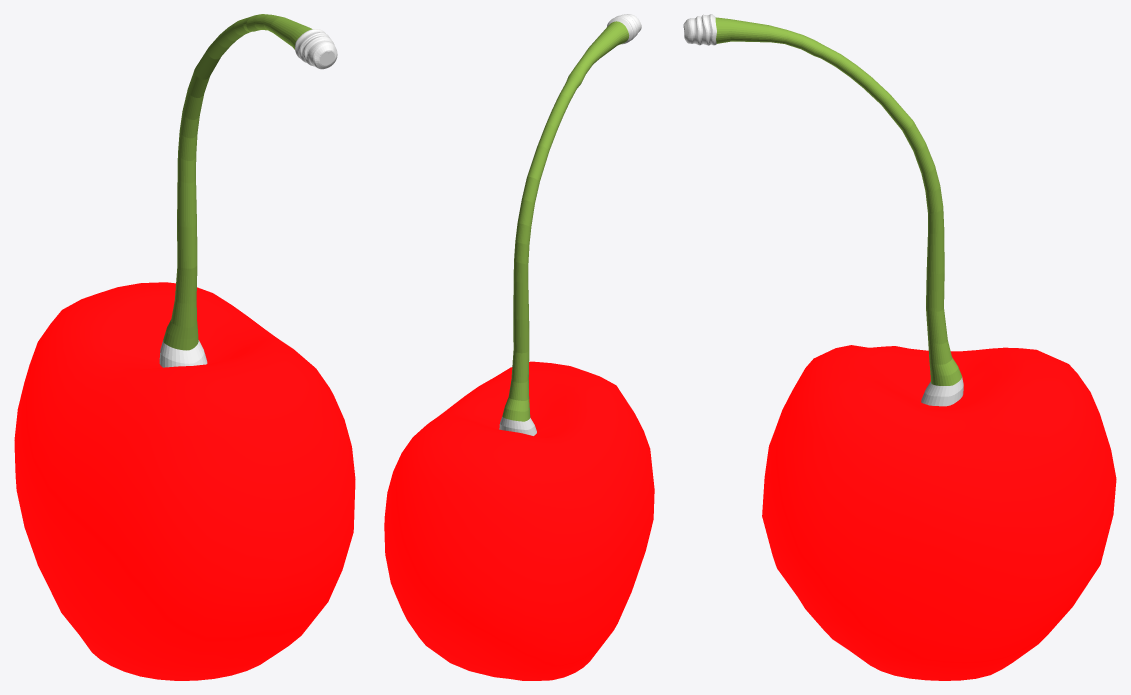
The model's file is cherry.glb.
3 renders of one model, left to right at view 1: azimuth 30°, elevation 25°; view 2: azimuth 150°, elevation 25°; view 3: azimuth 270°, elevation 25°, orthographic. The views are drawn at different scales.
Parts seen in each view (by area): view 1: Circle007_3, Circle007, Circle007_2, Circle007_1; view 2: Circle007_3, Circle007, Circle007_1, Circle007_2; view 3: Circle007_3, Circle007, Circle007_2, Circle007_1.
Part boxes in pixels (left/top/right/bottom): Circle007_3: left=14, top=282, right=355, bottom=680; Circle007: left=163, top=14, right=312, bottom=350; Circle007_2: left=295, top=29, right=337, bottom=69; Circle007_1: left=159, top=340, right=207, bottom=367; Circle007_3: left=384, top=361, right=654, bottom=680; Circle007: left=502, top=21, right=629, bottom=421; Circle007_1: left=499, top=416, right=536, bottom=435; Circle007_2: left=607, top=14, right=641, bottom=44; Circle007_3: left=762, top=345, right=1116, bottom=680; Circle007: left=715, top=17, right=961, bottom=385; Circle007_2: left=683, top=14, right=716, bottom=45; Circle007_1: left=921, top=377, right=963, bottom=406.
Bounding box in the file's own units: 4.25 × 10.94 × 6.66.
